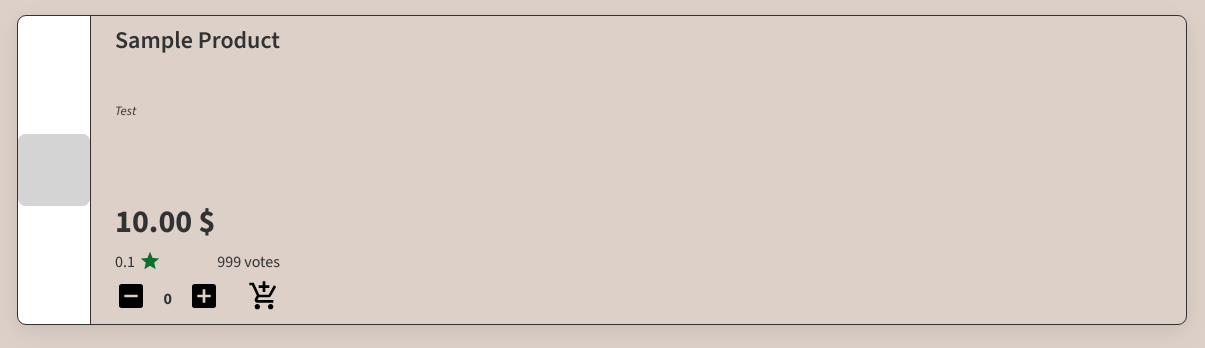
Scenario: ProductCard component › increases quantity when button clicked
The width and height of the screenshot is (1205, 348).
Click the 2nd button with alt text "Increase Quantity Icon" at (204, 298), box x1=188 y1=280 x2=220 y2=316
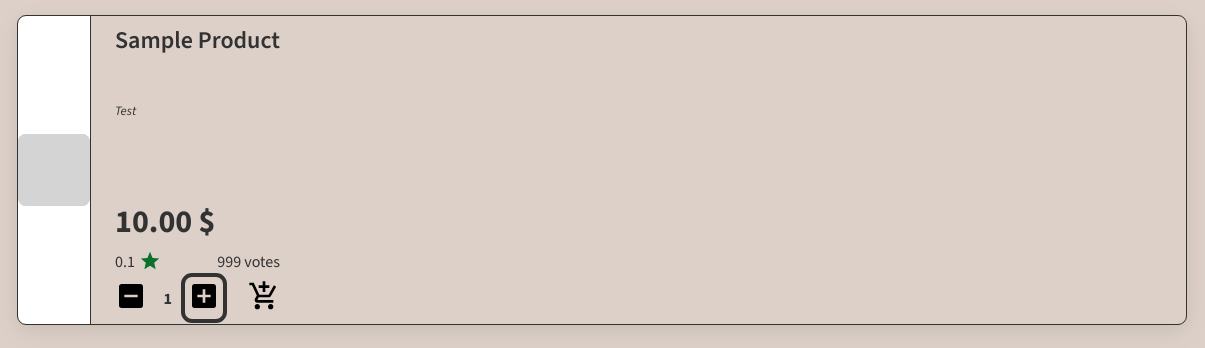
Click the 2nd button with alt text "Increase Quantity Icon" at (204, 298), box x1=188 y1=280 x2=220 y2=316
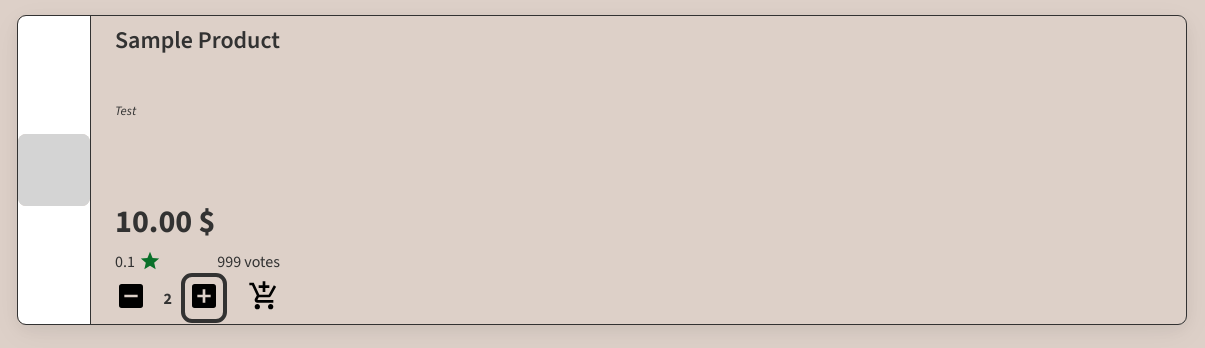
Click the 2nd button with alt text "Increase Quantity Icon" at (204, 298), box x1=188 y1=280 x2=220 y2=316
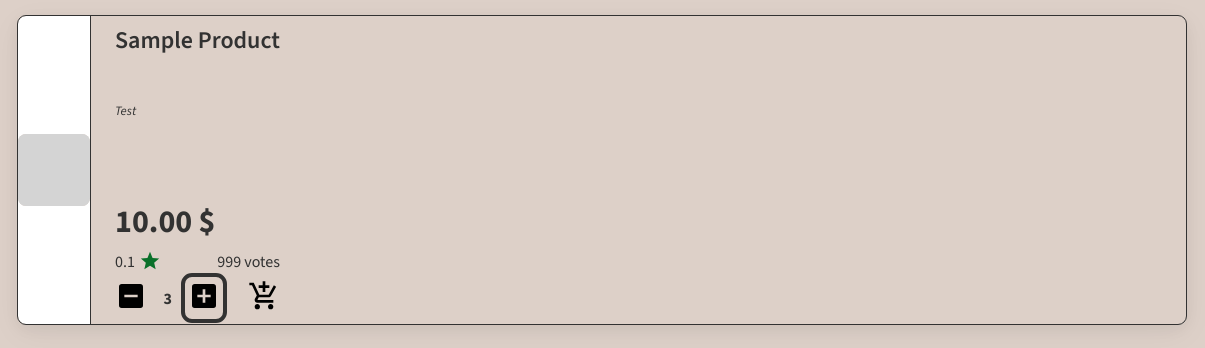
Now the number field holds "3", box x1=155 y1=280 x2=180 y2=316
